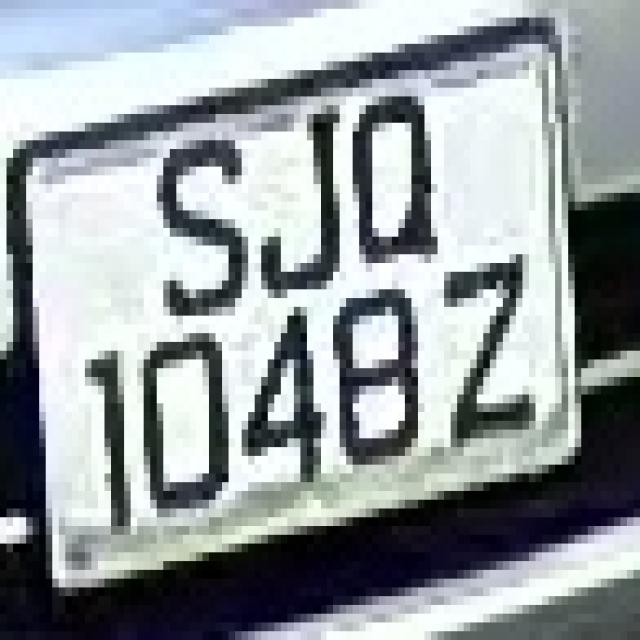0: (118, 307, 248, 552)
1: (58, 324, 144, 544)
4: (228, 324, 326, 500)
8: (320, 272, 444, 491)
J: (235, 70, 353, 316)
Q: (327, 70, 457, 289)
S: (137, 123, 268, 342)
Z: (418, 228, 562, 465)
